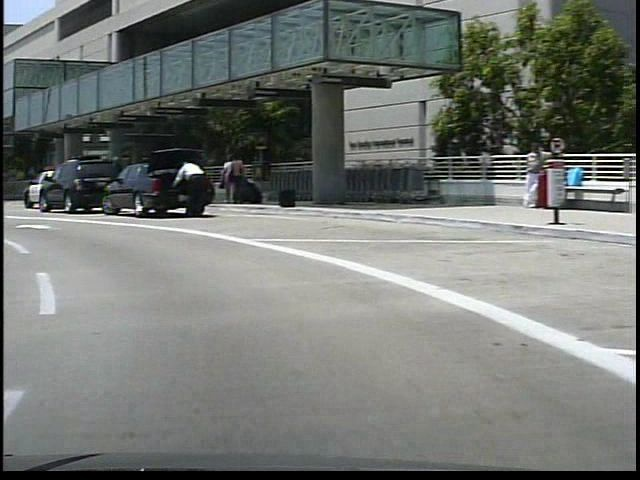person: (166, 160, 206, 224), (224, 154, 243, 209), (214, 155, 232, 208)
